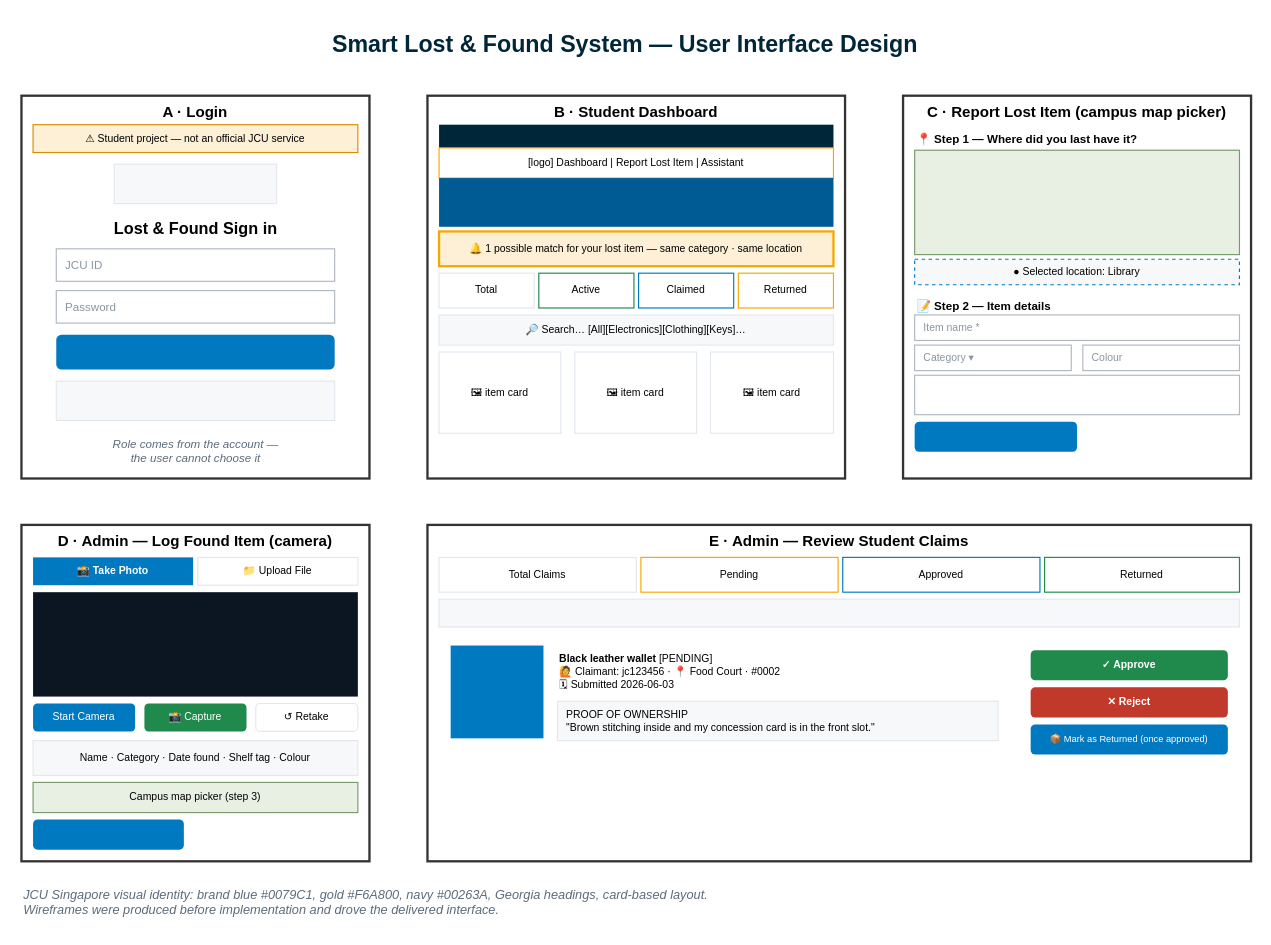
This 1271x945 diagram has some shape labels left out. The shapes that lost their labels are listed below. From the top down, each one's centre as x and y in pixels, then its label:
the point at 635,135: 📍 Singapore Campus Logged in as jc111111 [STUDENT] Logout
the point at 195,183: [ JCU logo ]
the point at 635,201: HERO — campus photo · "Lost & Found"
the point at 1076,202: CAMPUS AERIAL MAP ● ● ● 9 clickable location pins ● ● ●
the point at 195,351: Sign in →
the point at 195,400: 🔑 Demo accounts (student / admin / no-access)
the point at 1076,394: Description
the point at 995,436: Submit Lost Report
the point at 838,612: Show: [All] [Pending] [Approved] [Rejected] [Returned]
the point at 194,644: [ live camera preview ]
the point at 496,691: 🖼 photo
the point at 107,834: Log Found Item
